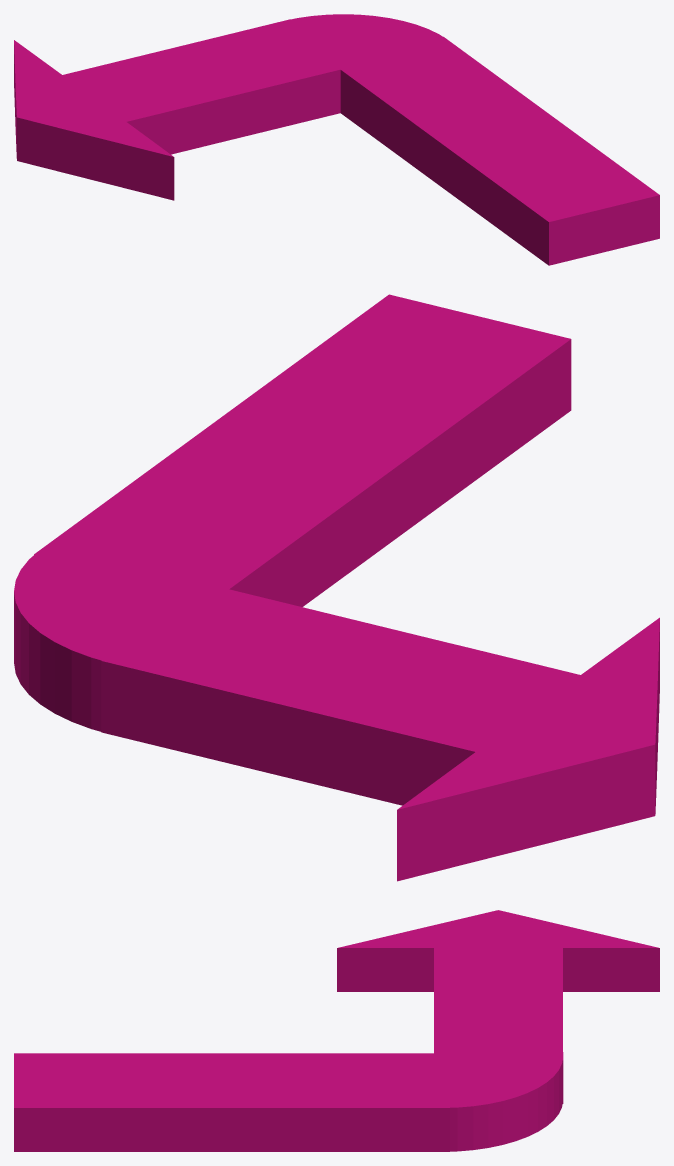
File: sipkaTurning.obj
3 views of the same model, one above another, from view 1: azimuth 30°, elevation 25°; view 2: azimuth 150°, elevation 25°; view 3: azimuth 270°, elevation 25° (orthographic). The views are drawn at different scales.
Parts seen in each view (by area): view 1: obj_0.001; view 2: obj_0.001; view 3: obj_0.001.
Boxes of the visible parts, left/top/right/bottom form: obj_0.001: left=14, top=14, right=659, bottom=265; obj_0.001: left=14, top=294, right=659, bottom=881; obj_0.001: left=14, top=910, right=659, bottom=1151.
Size of the model in its own units: 29 by 3 by 40.
